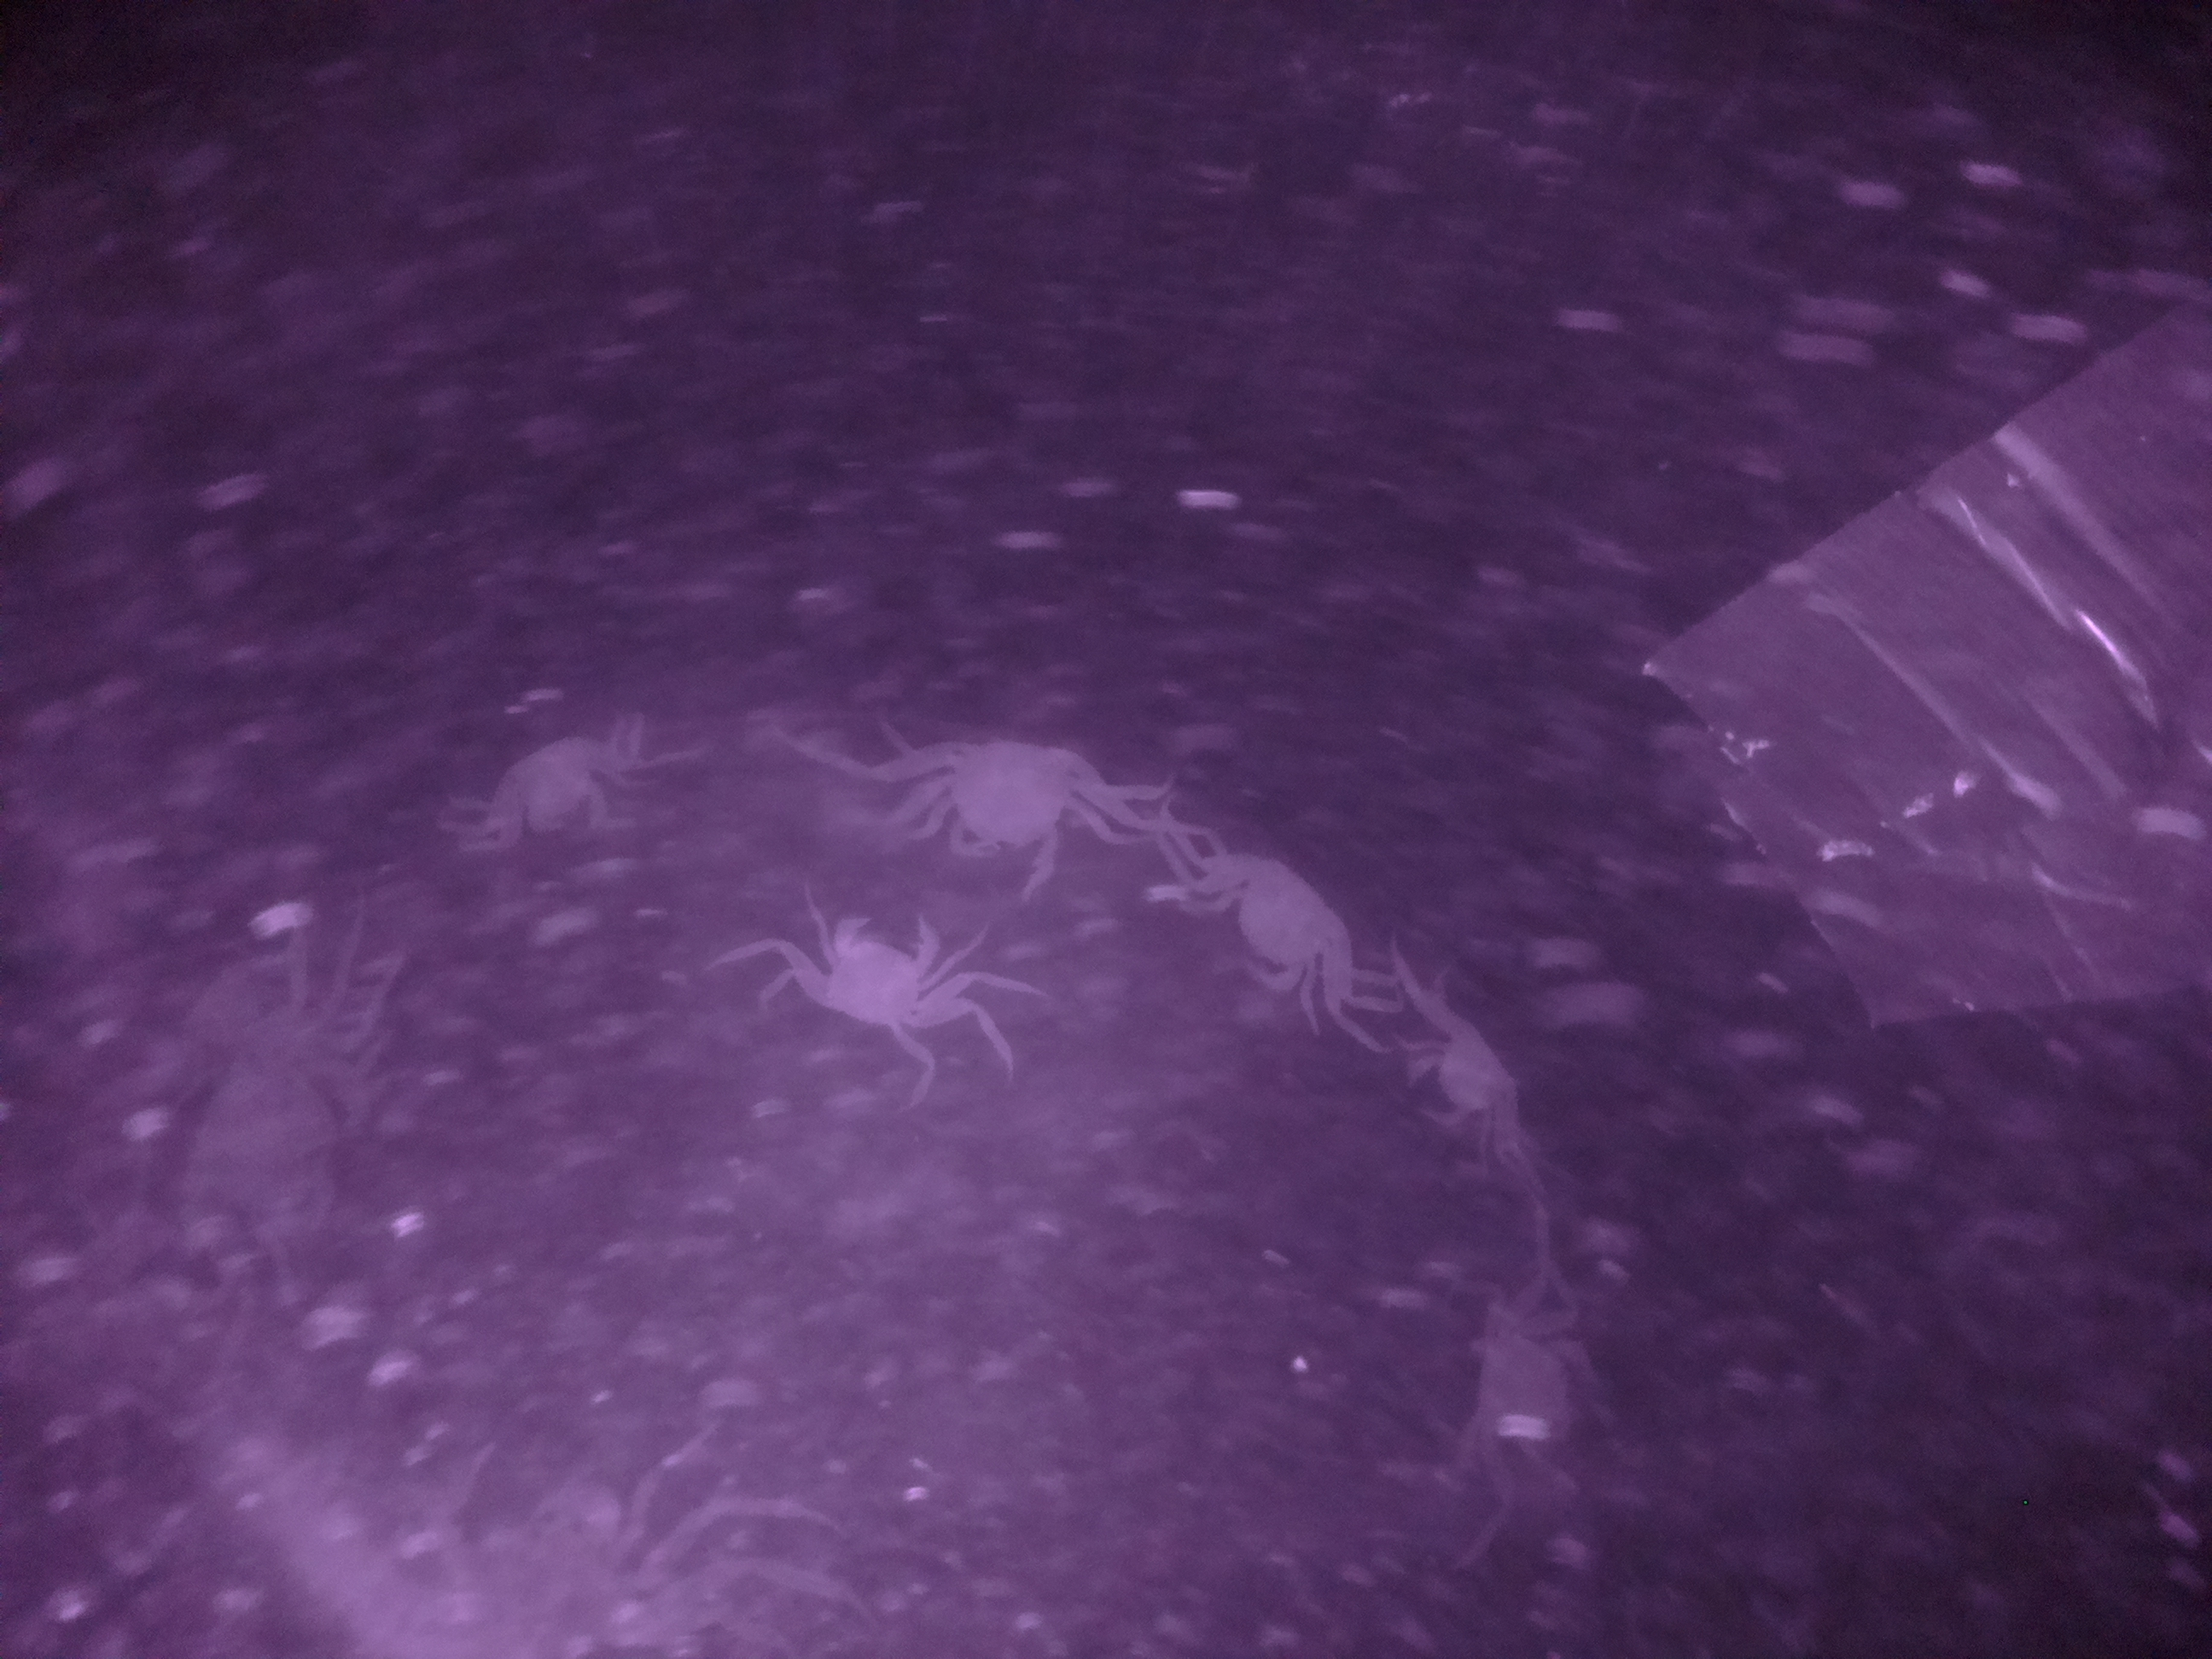Crab: (890, 727, 1115, 870), (1190, 836, 1366, 1014), (792, 899, 967, 1065), (1397, 1011, 1529, 1127)
